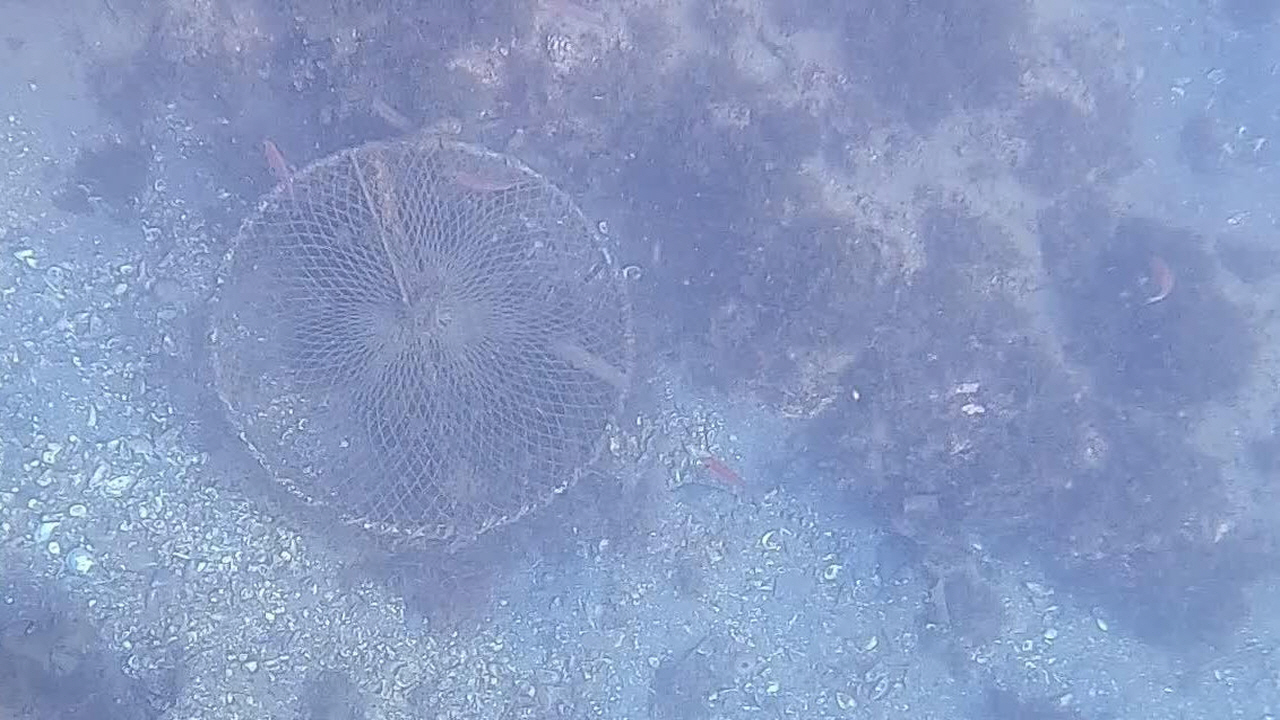circular fish trap: (200, 134, 639, 550)
